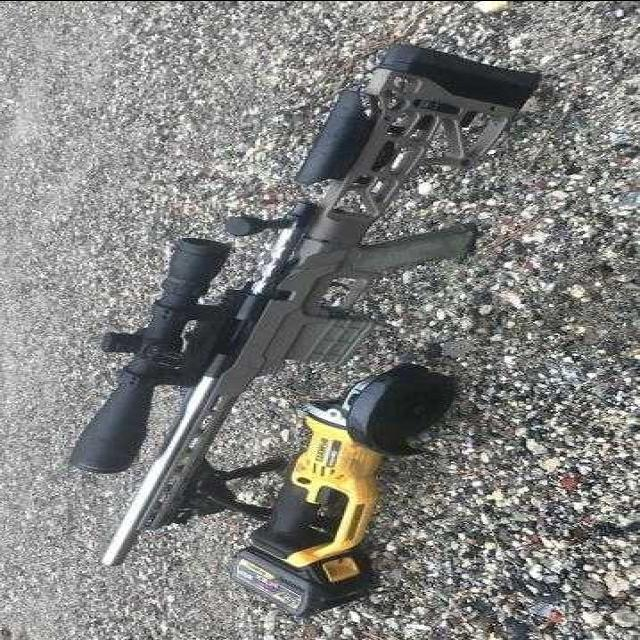heavyweapon: (46, 40, 561, 573)
